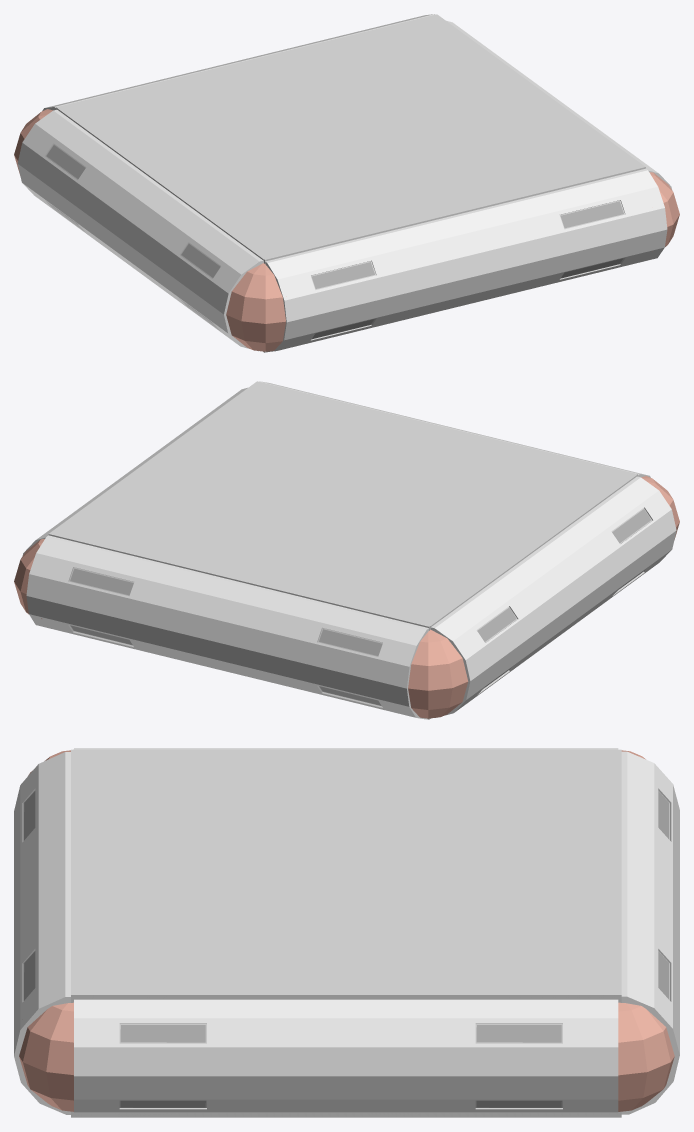
3 renders of one model, top to bottom at view 1: azimuth 30°, elevation 25°; view 2: azimuth 150°, elevation 25°; view 3: azimuth 270°, elevation 25°, orthographic. The views are drawn at different scales.
Parts seen in each view (by area): view 1: Sphere_4; view 2: Sphere_4; view 3: Sphere_4.
Boxes of the visible parts, bbox=[...] form: Sphere_4: bbox=[14, 14, 679, 352]; Sphere_4: bbox=[14, 381, 679, 719]; Sphere_4: bbox=[14, 748, 679, 1117].
Bounding box in the file's own units: 1476 × 290 × 1429.
